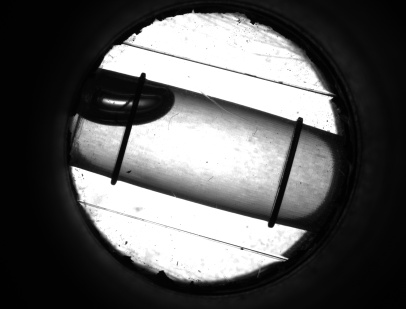line: (266, 135, 302, 208), (110, 133, 134, 167)
